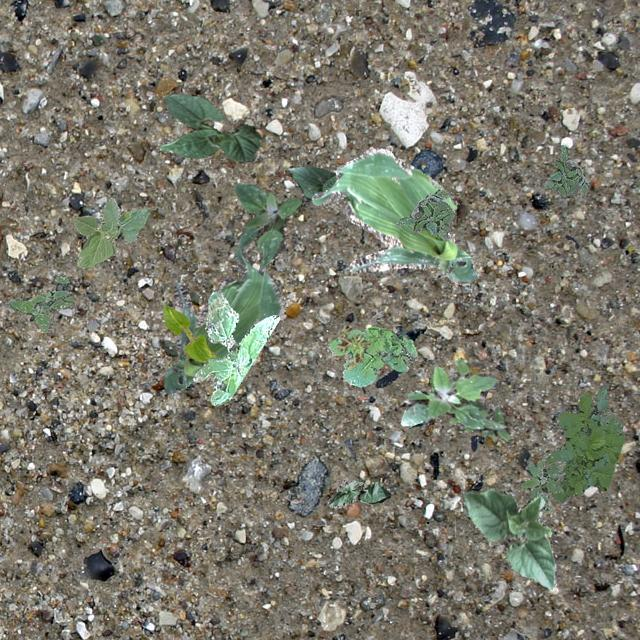crop: (310, 146, 476, 284), (160, 246, 284, 392), (462, 488, 558, 588), (158, 92, 260, 160), (72, 196, 148, 268), (162, 304, 214, 362), (287, 164, 349, 198), (326, 478, 389, 508)
weed: (192, 290, 278, 406), (544, 384, 624, 502), (399, 356, 508, 439), (232, 182, 300, 270), (326, 324, 416, 386), (6, 274, 74, 334), (394, 188, 454, 240), (520, 458, 566, 520), (542, 144, 588, 198), (336, 324, 370, 369)
